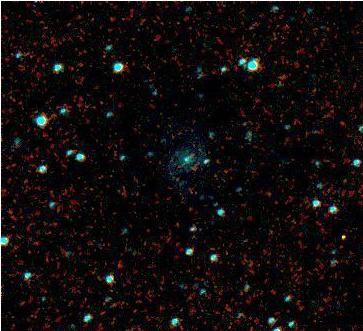star: (330, 223, 360, 253)
